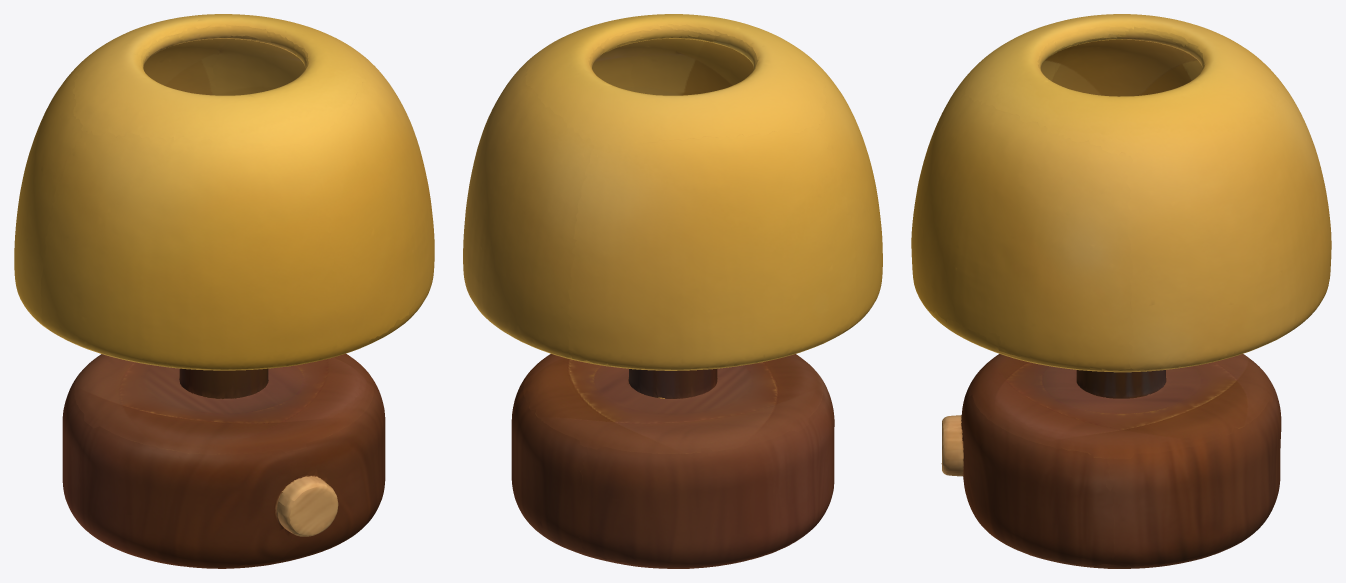
Rendered from fur_lamp_01.glb.
The picture shows the model from 3 angles, left to right: view 1: azimuth 30°, elevation 25°; view 2: azimuth 150°, elevation 25°; view 3: azimuth 270°, elevation 25°; orthographic projection.
Parts seen in each view (by area): view 1: geometry_0; view 2: geometry_0; view 3: geometry_0.
Part boxes in pixels (x1,y1,x2,y2): geometry_0: (14,14,434,568); geometry_0: (463,14,882,568); geometry_0: (911,14,1331,568).
Bounding box in the file's own units: 0.1865 × 0.22 × 0.1852.
Materials: 1 (1 with a texture image).
